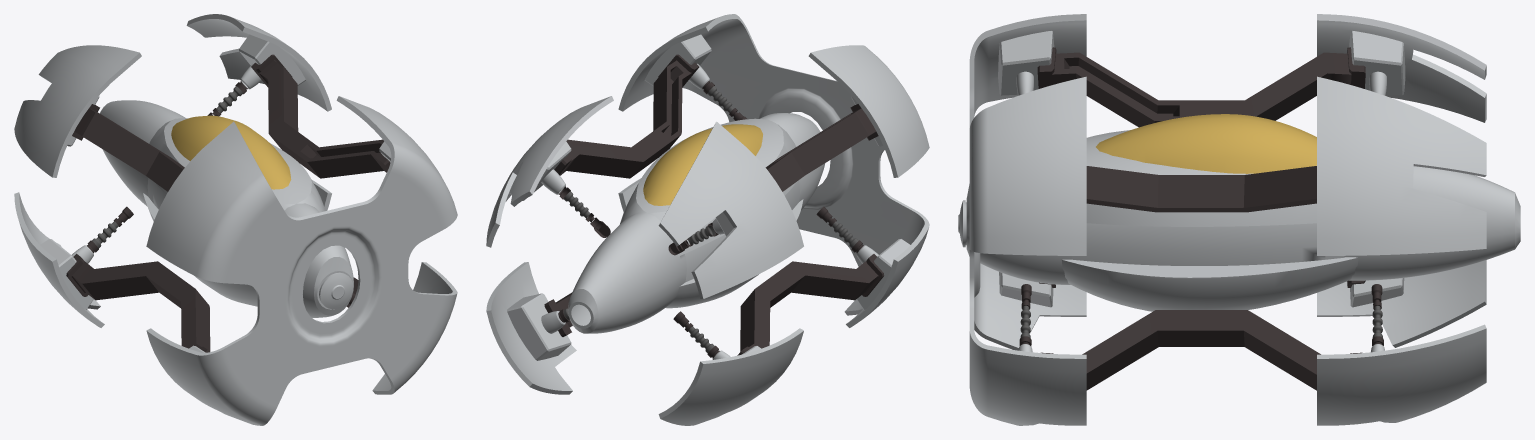
Rendered from CapsulePE.glb.
3 renders of one model, left to right at view 1: azimuth 30°, elevation 25°; view 2: azimuth 150°, elevation 25°; view 3: azimuth 270°, elevation 25°, orthographic. The views are drawn at different scales.
Parts seen in each view (by area): view 1: Layer0_001; view 2: Layer0_001; view 3: Layer0_001.
Boxes of the visible parts, x1,y1,x2,y2 form: Layer0_001: (14, 14, 457, 425); Layer0_001: (486, 14, 929, 425); Layer0_001: (958, 14, 1520, 425).
Size of the model in its own units: 2.66 by 2.55 by 3.77.
